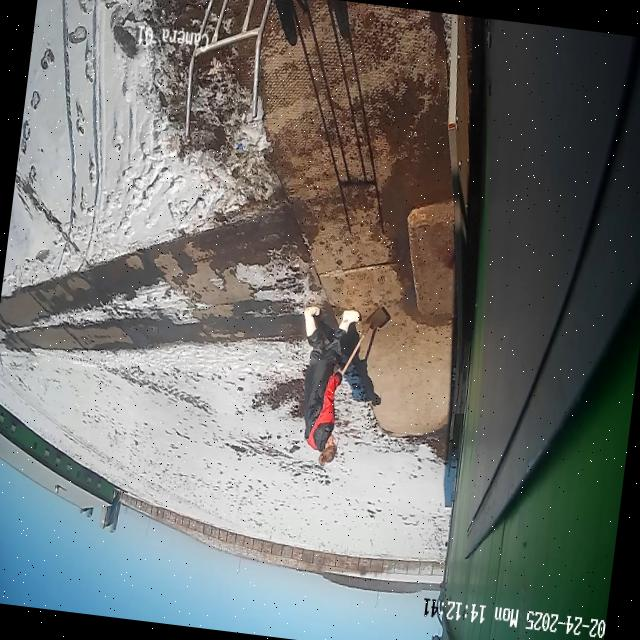Red uniform: (284, 300, 364, 468)
